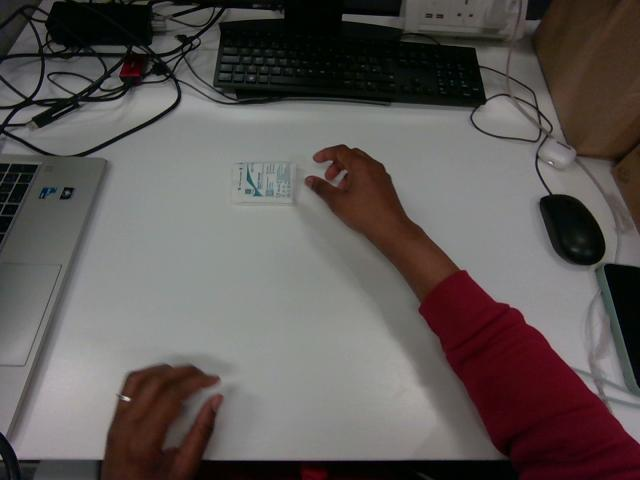gauze: (232, 162, 295, 203)
